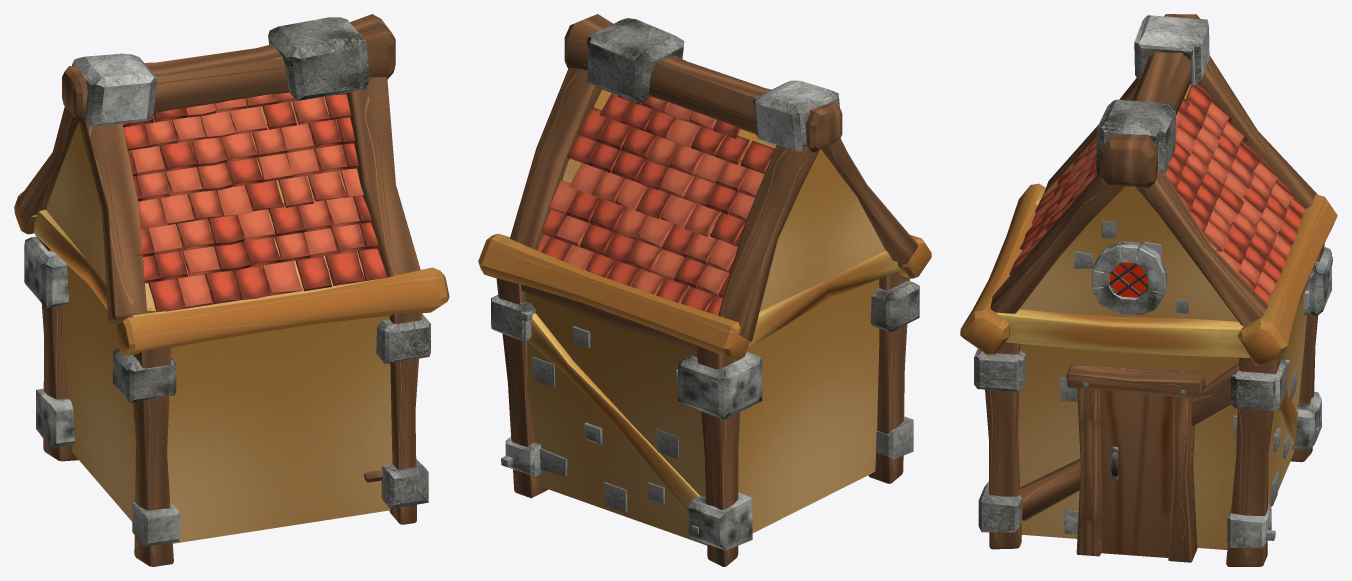
Rendered from stylized_hut_model.glb.
3 views of the same model, side by side, from view 1: azimuth 30°, elevation 25°; view 2: azimuth 150°, elevation 25°; view 3: azimuth 270°, elevation 25° (orthographic). The views are drawn at different scales.
Visible parts, largest first — view 1: StaticMeshActor_3_StaticMeshComponent0_Small_House_triangle_, StaticMeshActor_3_StaticMeshComponent0, StaticMeshActor_3_StaticMeshComponent0_Small_house_Big_wood., StaticMeshActor_3_StaticMeshComponent0_Small_house_big_rock_, StaticMeshActor_3_StaticMeshComponent0_Wood_Small_House.001_; view 2: StaticMeshActor_3_StaticMeshComponent0_Small_House_triangle_, StaticMeshActor_3_StaticMeshComponent0, StaticMeshActor_3_StaticMeshComponent0_Small_house_Big_wood., StaticMeshActor_3_StaticMeshComponent0_Small_house_big_rock_, StaticMeshActor_3_StaticMeshComponent0_Wood_Small_House.001_; view 3: StaticMeshActor_3_StaticMeshComponent0_Small_house_Big_wood., StaticMeshActor_3_StaticMeshComponent0, StaticMeshActor_3_StaticMeshComponent0_Small_House_triangle_, StaticMeshActor_3_StaticMeshComponent0_Small_house_big_rock_, StaticMeshActor_3_StaticMeshComponent0_Wood_Small_House.001_, StaticMeshActor_3_StaticMeshComponent0_Orange_emission_high_.
Boxes of the visible parts, x1,y1,x2,y2 form: StaticMeshActor_3_StaticMeshComponent0_Small_House_triangle_: [46, 96, 392, 543]; StaticMeshActor_3_StaticMeshComponent0: [123, 92, 387, 546]; StaticMeshActor_3_StaticMeshComponent0_Small_house_Big_wood.: [17, 14, 422, 566]; StaticMeshActor_3_StaticMeshComponent0_Small_house_big_rock_: [24, 17, 430, 508]; StaticMeshActor_3_StaticMeshComponent0_Wood_Small_House.001_: [14, 191, 449, 355]; StaticMeshActor_3_StaticMeshComponent0_Small_House_triangle_: [525, 89, 885, 545]; StaticMeshActor_3_StaticMeshComponent0: [501, 93, 913, 534]; StaticMeshActor_3_StaticMeshComponent0_Small_house_Big_wood.: [496, 14, 918, 566]; StaticMeshActor_3_StaticMeshComponent0_Small_house_big_rock_: [491, 18, 919, 550]; StaticMeshActor_3_StaticMeshComponent0_Wood_Small_House.001_: [478, 233, 931, 514]; StaticMeshActor_3_StaticMeshComponent0_Small_house_Big_wood.: [985, 14, 1324, 566]; StaticMeshActor_3_StaticMeshComponent0: [990, 80, 1333, 557]; StaticMeshActor_3_StaticMeshComponent0_Small_House_triangle_: [1018, 85, 1306, 549]; StaticMeshActor_3_StaticMeshComponent0_Small_house_big_rock_: [974, 15, 1331, 548]; StaticMeshActor_3_StaticMeshComponent0_Wood_Small_House.001_: [960, 183, 1337, 444]; StaticMeshActor_3_StaticMeshComponent0_Orange_emission_high_: [1109, 262, 1147, 297].
Bounding box in the file's own units: 4.01 × 5 × 4.
Materials: 14 (11 with a texture image).
